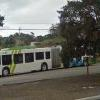Bus: (3, 41, 61, 79)
